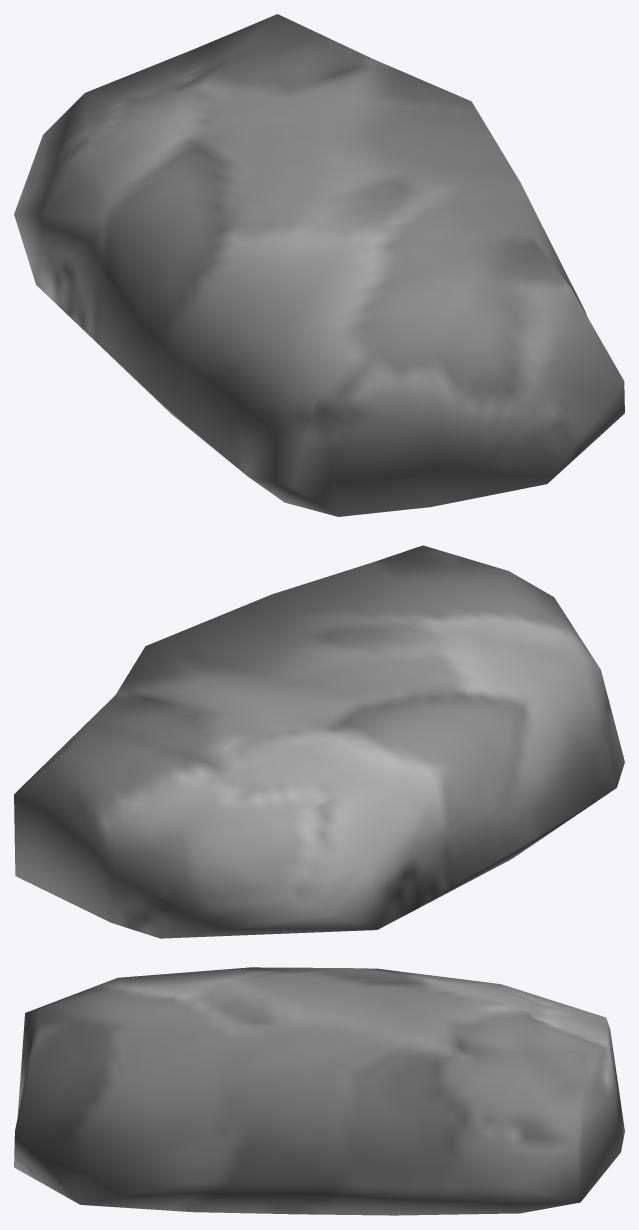
Rendered from Rock_1.fbx.
The picture shows the model from 3 angles, top to bottom: view 1: azimuth 30°, elevation 25°; view 2: azimuth 150°, elevation 25°; view 3: azimuth 270°, elevation 25°; orthographic projection. The views are drawn at different scales.
Parts seen in each view (by area): view 1: Rock_1; view 2: Rock_1; view 3: Rock_1.
Boxes of the visible parts, box(x1,y1,x2,y2) form: Rock_1: box(14, 14, 624, 516); Rock_1: box(14, 545, 624, 938); Rock_1: box(14, 967, 624, 1215).
Size of the model in its own units: 26.33 by 12.17 by 41.85.
